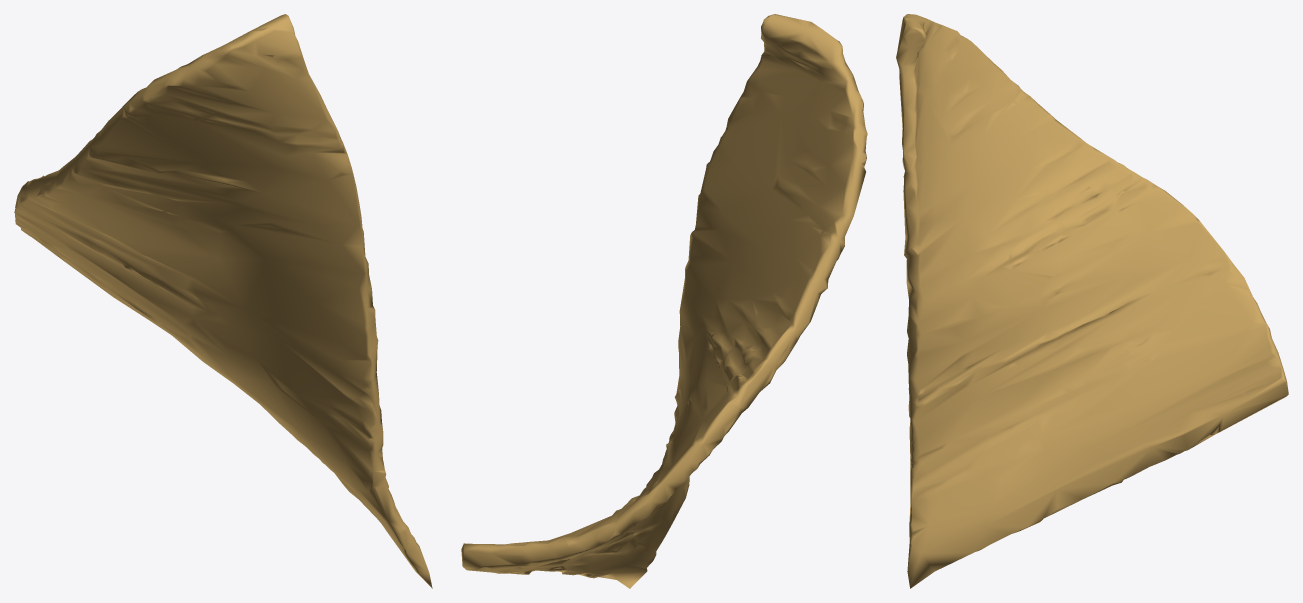
The picture shows the model from 3 angles, left to right: view 1: azimuth 30°, elevation 25°; view 2: azimuth 150°, elevation 25°; view 3: azimuth 270°, elevation 25°; orthographic projection. The views are drawn at different scales.
Visible parts, largest first — view 1: 右侧环咽韧带; view 2: 右侧环咽韧带; view 3: 右侧环咽韧带.
Boxes of the visible parts, x1,y1,x2,y2 form: 右侧环咽韧带: (14,14,432,588); 右侧环咽韧带: (461,14,867,588); 右侧环咽韧带: (896,14,1288,588).
Size of the model in its own units: 0.0128 by 0.0267 by 0.0189.
